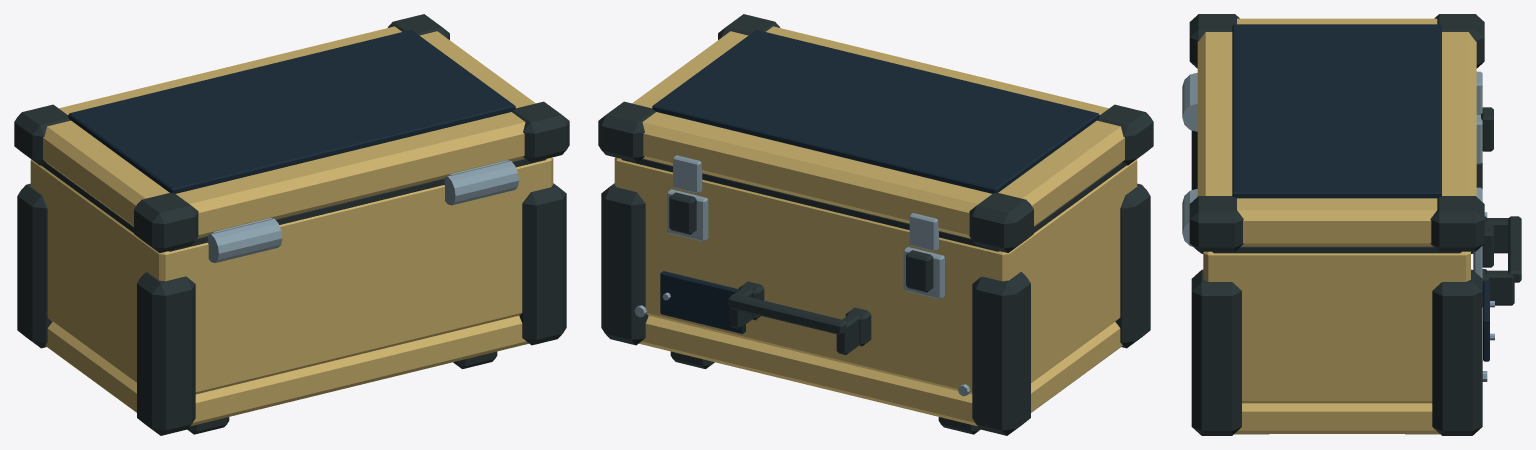
File: industrial_tool_chest.glb
3 views of the same model, side by side, from view 1: azimuth 30°, elevation 25°; view 2: azimuth 150°, elevation 25°; view 3: azimuth 270°, elevation 25° (orthographic).
Parts seen in each view (by area): view 1: body_back_wall, moving_lid_inset, moving_lid_shell, corner_guard (×3), body_left_wall, body_floor, moving_lid_corner (×4), hinge_body (×2), gasket_back, gasket_side; view 2: body_front_wall, moving_lid_inset, moving_lid_shell, corner_guard (×3), body_left_wall, body_floor, moving_lid_corner (×4), type_plate, latch_release (×2), gasket_front, moving_latch_hook (×2), carry_handle_bar (+3 smaller); view 3: moving_lid_inset, body_right_wall, moving_lid_shell, corner_guard (×3), moving_lid_corner (×4), body_floor, gasket_side, hinge_body (×2), latch_release (×2), carry_handle_bar, carry_handle_right, type_plate (+2 smaller).
Part boxes in pixels (box(x1,y1,x2,y2)): body_back_wall: box(155, 158, 550, 394); moving_lid_inset: box(68, 30, 515, 193); moving_lid_shell: box(43, 26, 535, 238); corner_guard (×3): box(17, 183, 566, 435); body_left_wall: box(30, 159, 178, 382); body_floor: box(45, 315, 528, 426); moving_lid_corner (×4): box(14, 14, 569, 252); hinge_body (×2): box(208, 160, 518, 262); gasket_back: box(168, 158, 546, 251); gasket_side: box(41, 163, 133, 232); body_front_wall: box(616, 158, 1016, 394); moving_lid_inset: box(652, 30, 1099, 193); moving_lid_shell: box(632, 26, 1124, 238); corner_guard (×3): box(601, 183, 1150, 435); body_left_wall: box(989, 159, 1137, 382); body_floor: box(639, 315, 1122, 426); moving_lid_corner (×4): box(598, 14, 1153, 252); type_plate: box(660, 271, 745, 333); latch_release (×2): box(669, 192, 933, 292); gasket_front: box(621, 158, 999, 251); moving_latch_hook (×2): box(673, 155, 938, 251); carry_handle_bar: box(728, 293, 847, 335); moving_lid_inset: box(1232, 24, 1441, 198); body_right_wall: box(1203, 251, 1470, 403); moving_lid_shell: box(1197, 18, 1476, 246); corner_guard (×3): box(1191, 130, 1482, 435); moving_lid_corner (×4): box(1189, 14, 1484, 251); body_floor: box(1234, 403, 1439, 433); gasket_side: box(1212, 246, 1461, 253); hinge_body (×2): box(1182, 73, 1197, 246); latch_release (×2): box(1481, 107, 1493, 267); carry_handle_bar: box(1508, 216, 1521, 282); carry_handle_right: box(1486, 270, 1514, 305); type_plate: box(1483, 281, 1489, 361).
Bounding box in the file's own units: 1.25 × 0.7195 × 0.8745.
